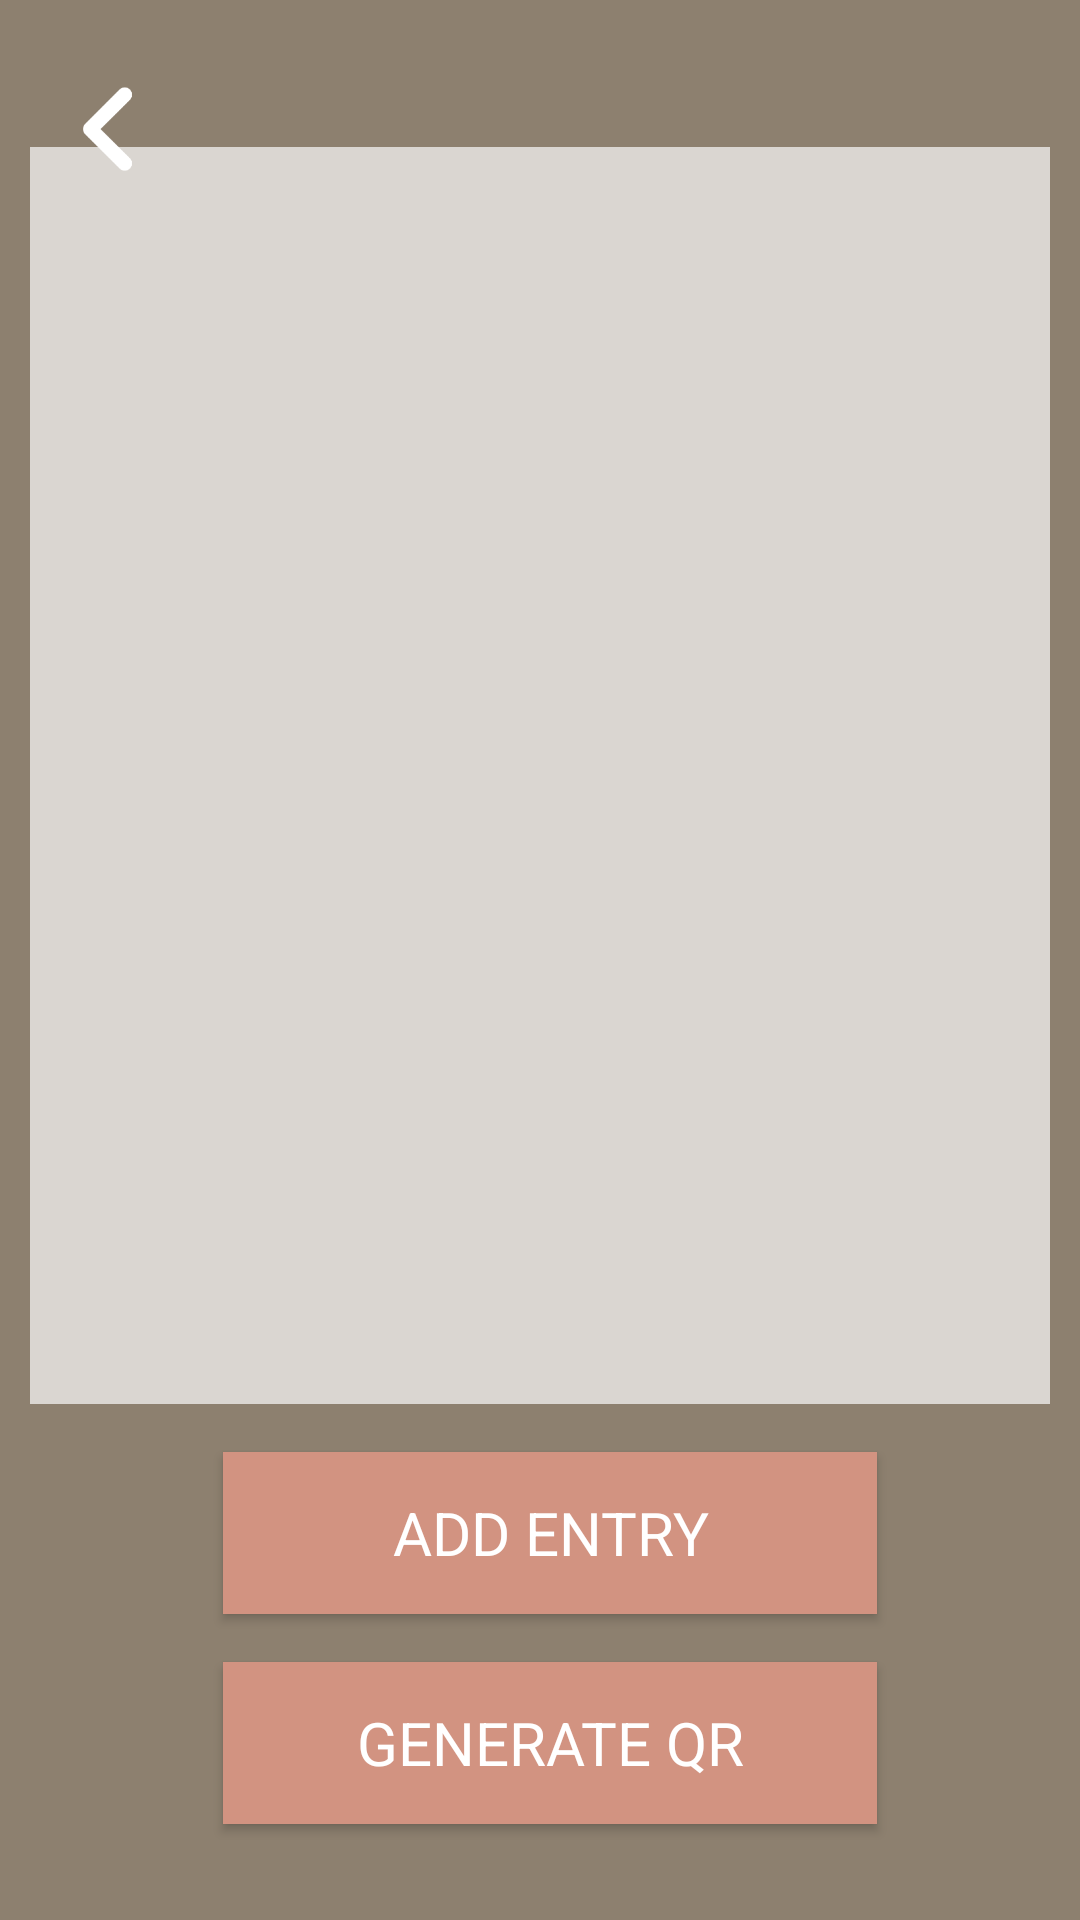

Point at icon controls on the screen. Image size 1080px×1920px, points as point (x, y).
back: point (106, 129)
